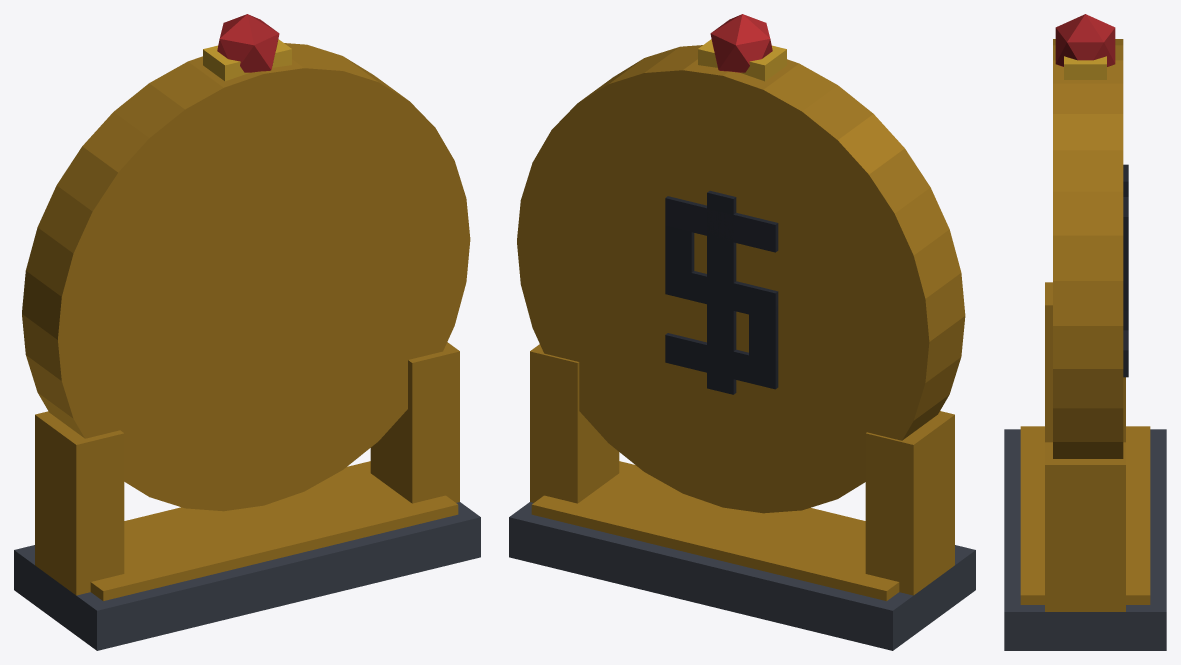
Rendered from Decor_GoldVault_MegaCoin.fbx.
3 renders of one model, left to right at view 1: azimuth 30°, elevation 25°; view 2: azimuth 150°, elevation 25°; view 3: azimuth 270°, elevation 25°, orthographic. The views are drawn at different scales.
Parts seen in each view (by area): view 1: MegaCoin_Body; view 2: MegaCoin_Body; view 3: MegaCoin_Body.
Part boxes in pixels (box(x1,y1,x2,y2)): MegaCoin_Body: box(14, 14, 480, 650); MegaCoin_Body: box(509, 14, 975, 650); MegaCoin_Body: box(1004, 14, 1166, 650).
Bounding box in the file's own units: 17.2 × 22.3 × 6.
